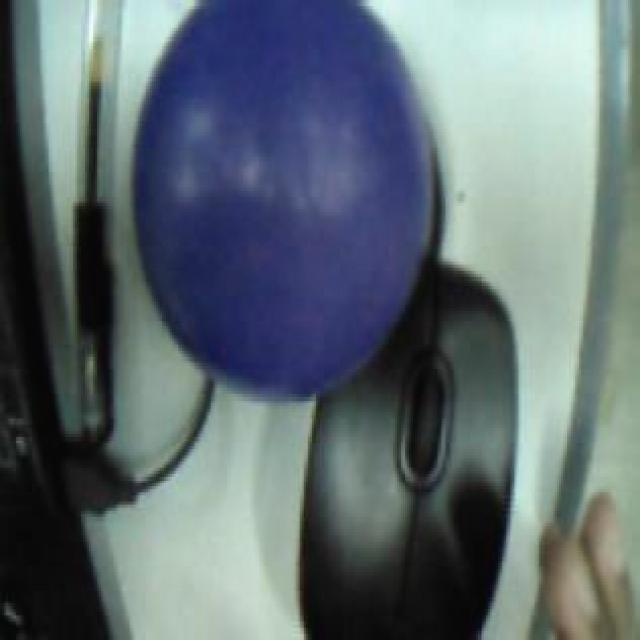BallPurple: (130, 0, 431, 397)
